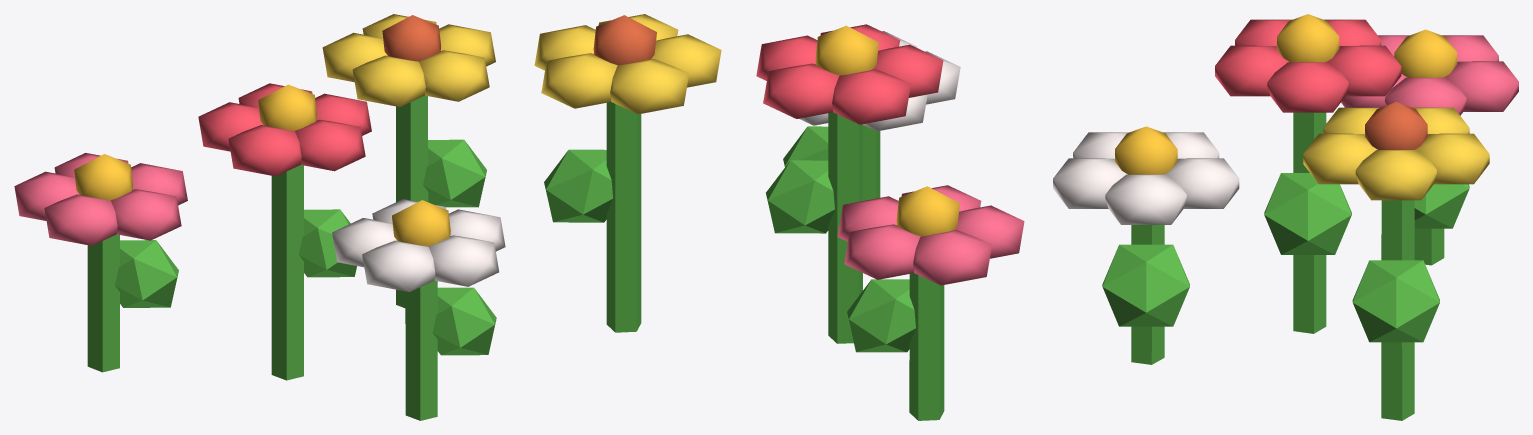
Rendered from flowers.glb.
3 views of the same model, side by side, from view 1: azimuth 30°, elevation 25°; view 2: azimuth 150°, elevation 25°; view 3: azimuth 270°, elevation 25° (orthographic). The views are drawn at different scales.
Parts seen in each view (by area): view 1: flowers_mesh; view 2: flowers_mesh; view 3: flowers_mesh.
Part boxes in pixels (x1,y1,x2,y2): flowers_mesh: (14, 14, 505, 420); flowers_mesh: (534, 14, 1024, 420); flowers_mesh: (1053, 14, 1518, 420).
Bounding box in the file's own units: 0.752 × 0.4688 × 0.6333.
Materials: 1 (1 with a texture image).
